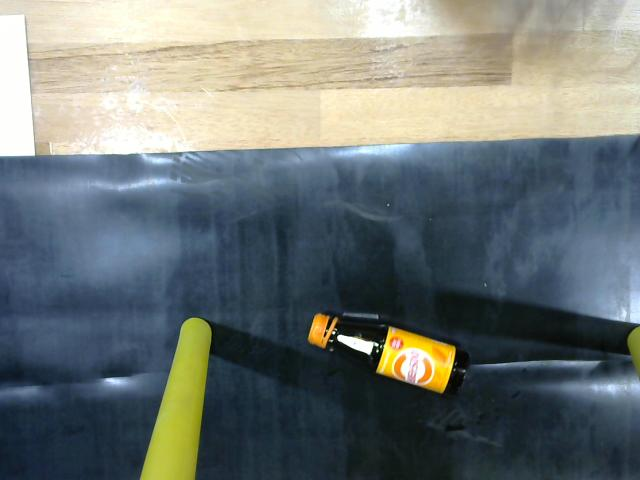glass: (295, 303, 478, 413)
